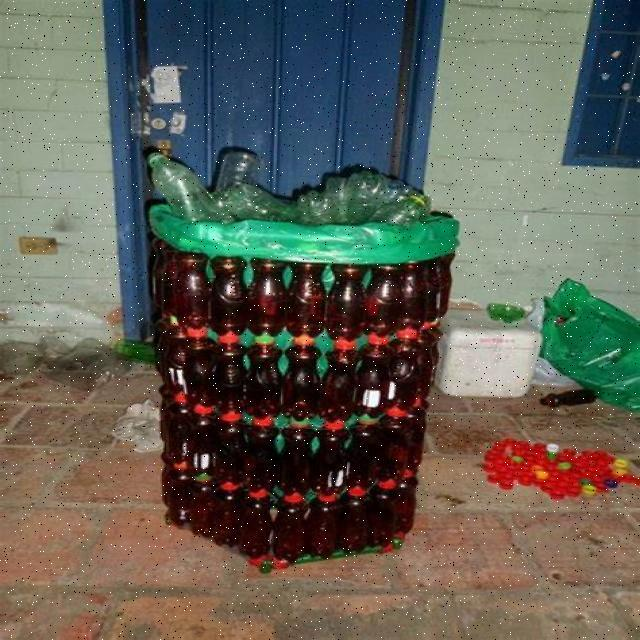garbage container: (124, 132, 476, 587)
